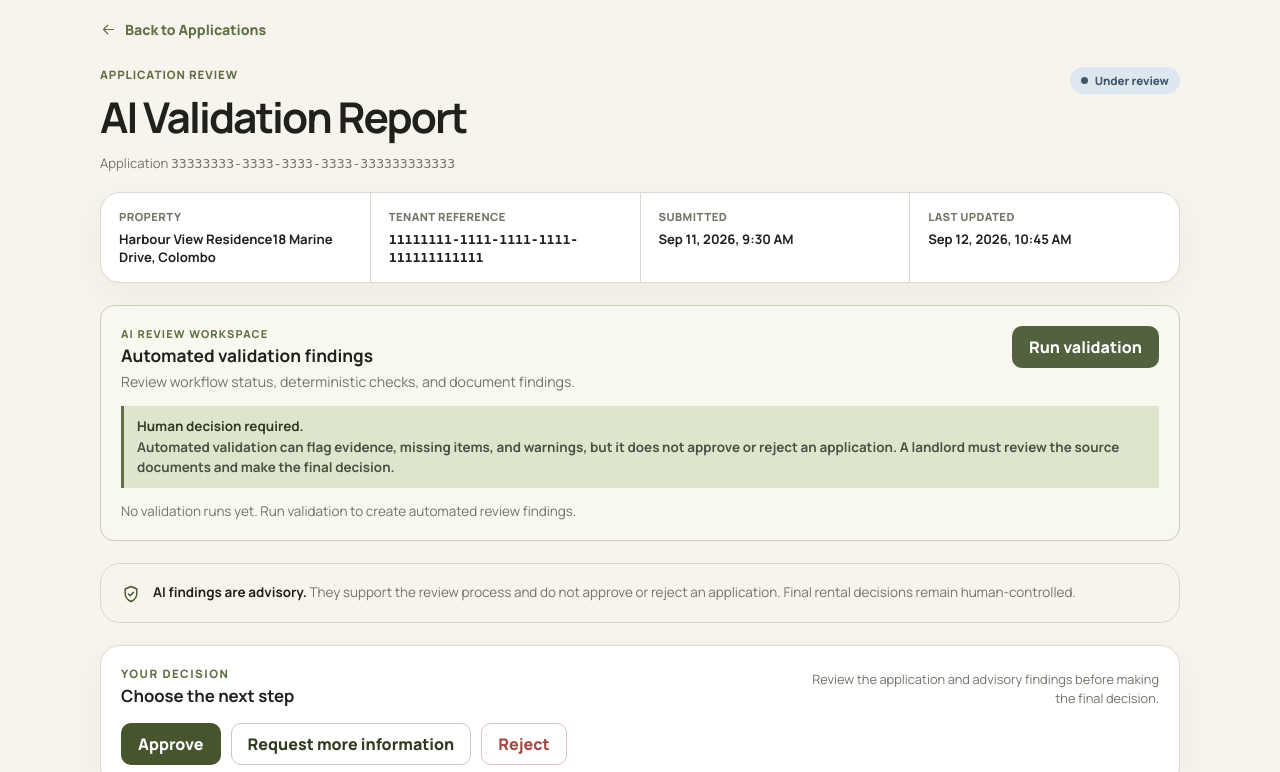
Test: AI validation report › requires a message before requesting application changes
Click the button "Request more information" at coordinates (351, 744), box [230,724,471,766]
(page scrolled)
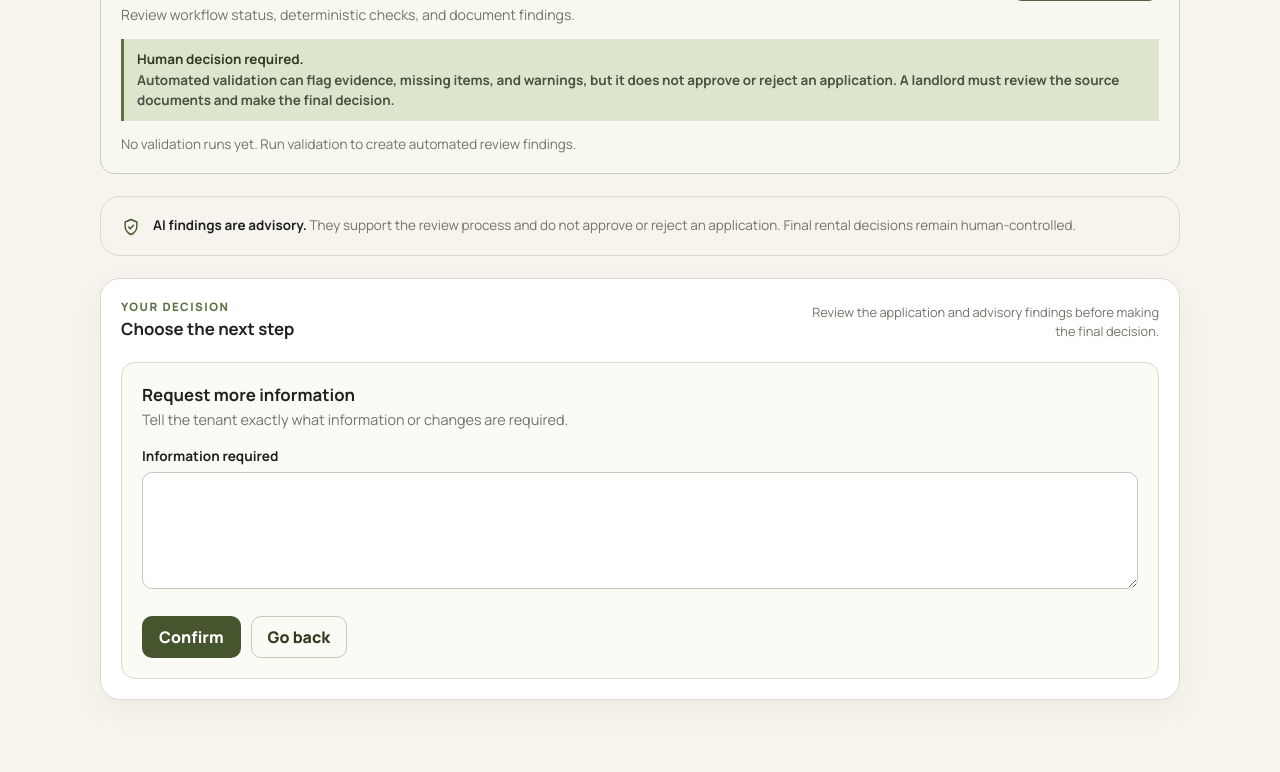
Click the button "Confirm" at coordinates (191, 637), box [142,616,240,658]
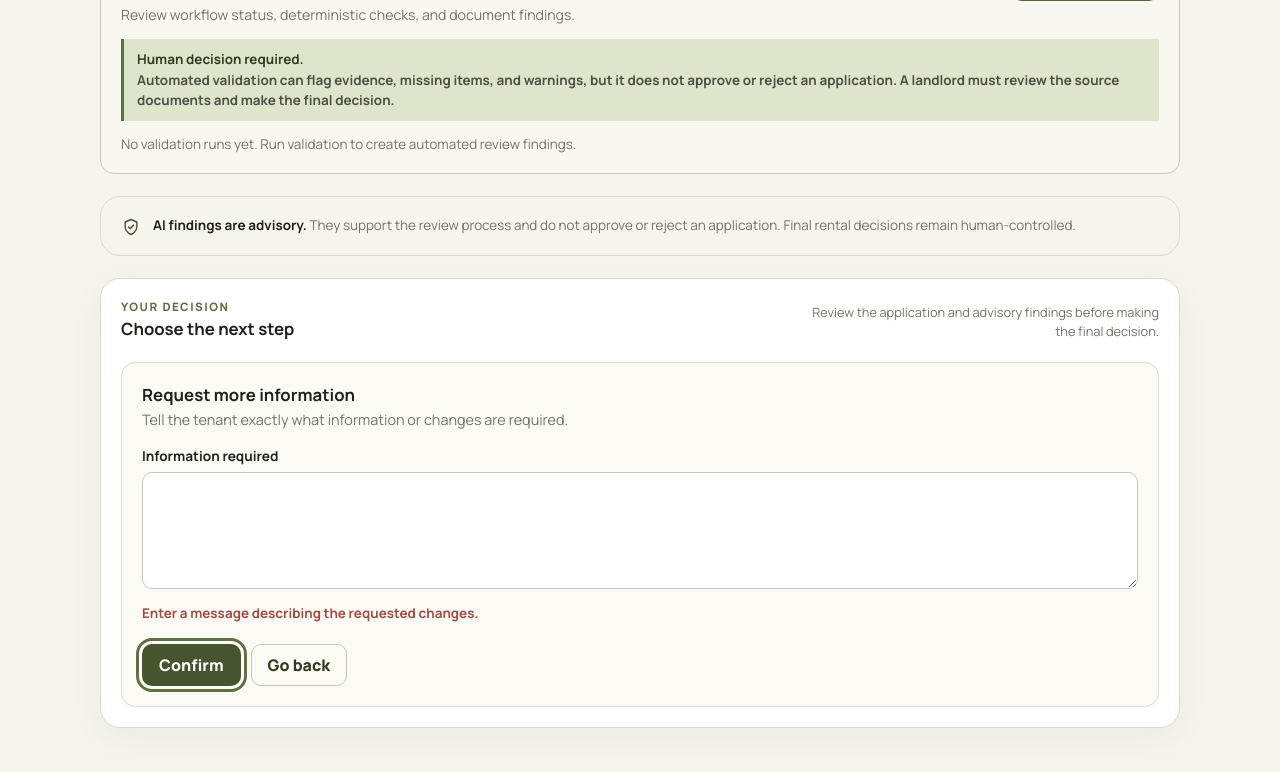
Expected: the message shows "Enter a message", [142,604,478,622]
Type "Upload current income evidence." into the text box labelled "Information required" at coordinates (640, 531), box [142,472,1138,589]
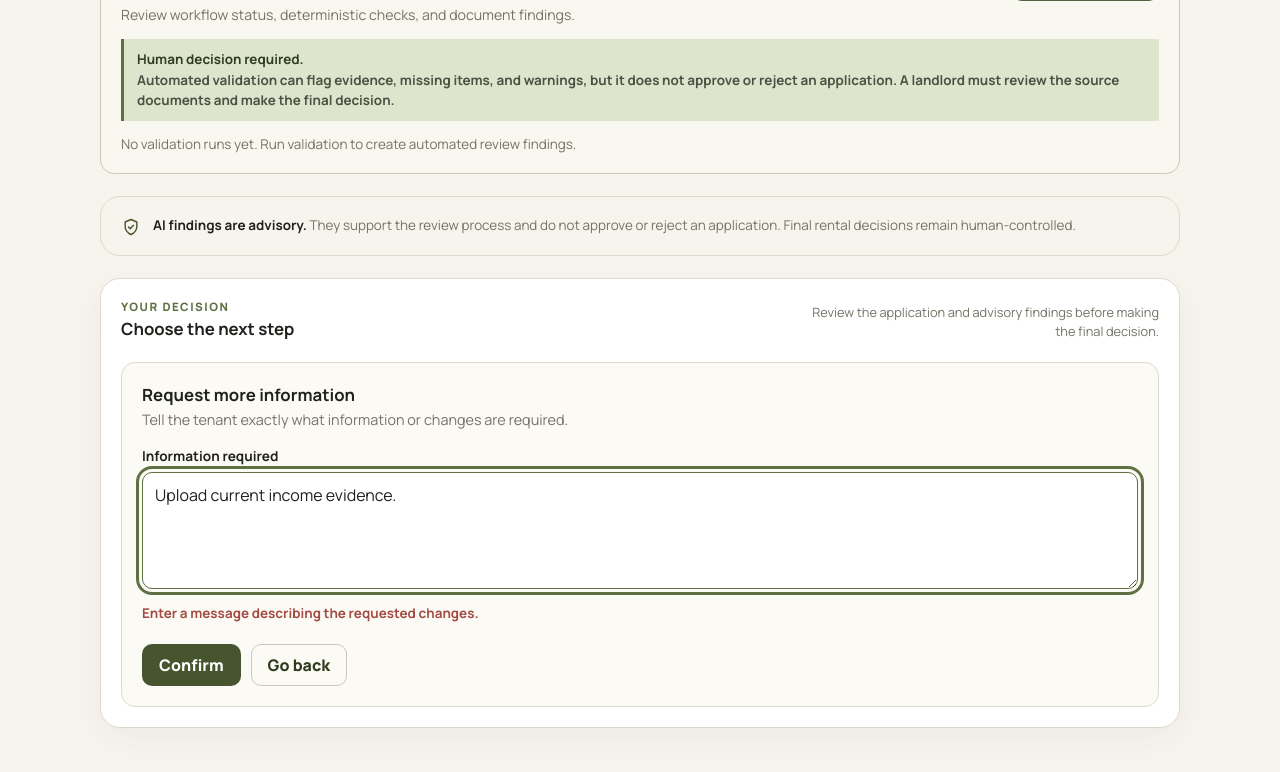
Click the button "Confirm" at coordinates (191, 665), box [142,644,240,686]
(page scrolled)
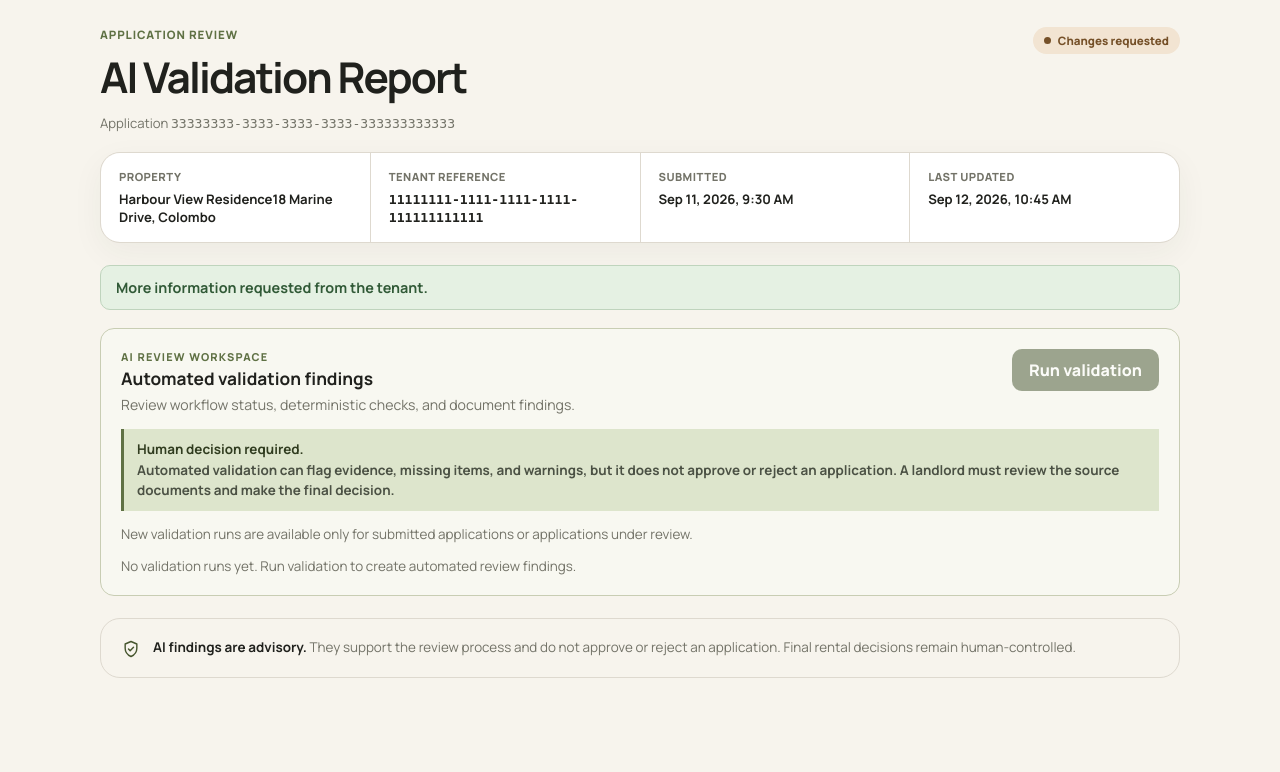
Expected: the message reads "More information requested from the tenant.", [116,278,428,297]
